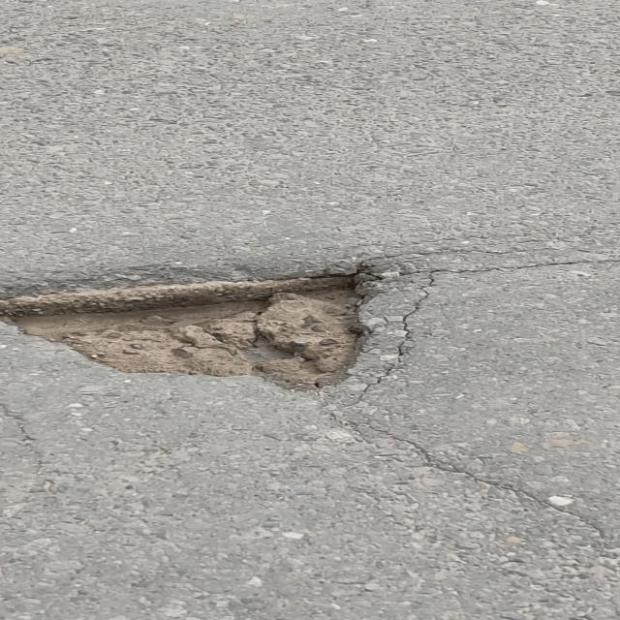lubang: (0, 259, 415, 388)
